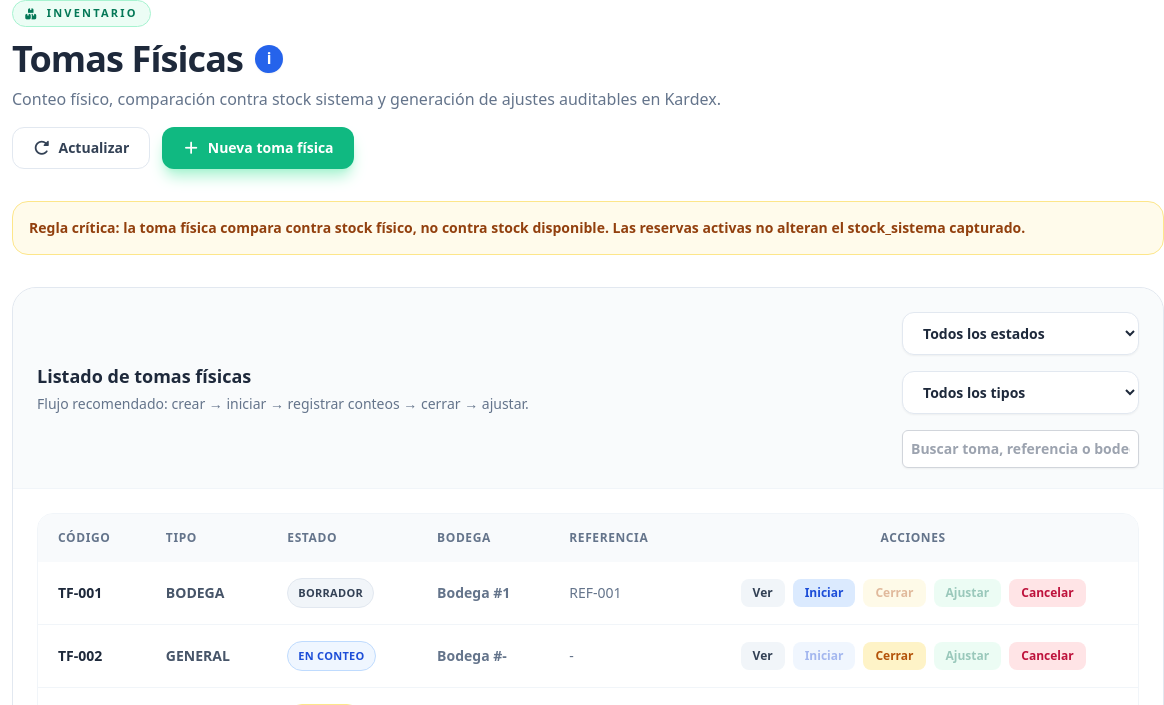
Scenario: TomasFisicasInventario (vista) › filtra tomas por estado usando el selector de filtro
Expected: the text "TF-001" is shown, [38,562,146,624]
Select "BORRADOR" in the 1st dropdown showing "Todos los estados": [1020, 333] box [902,312,1139,355]
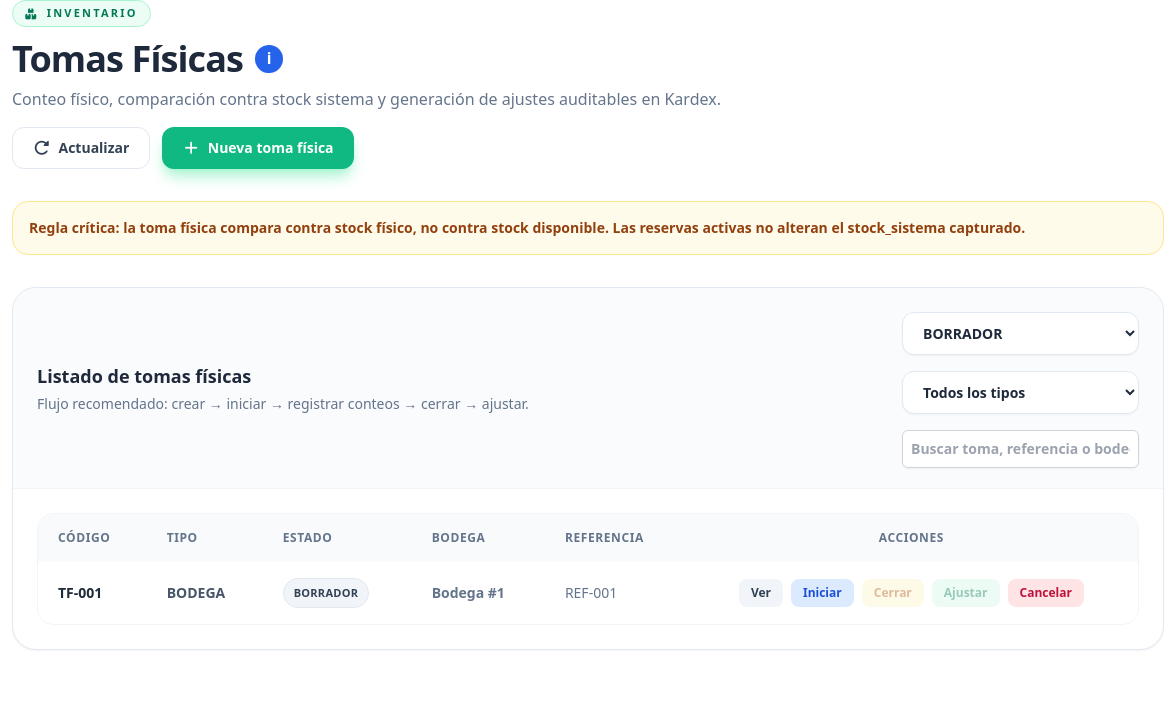
Expected: the text "TF-001" is shown, [38,562,147,624]
Expected: the text "TF-002" is gone
